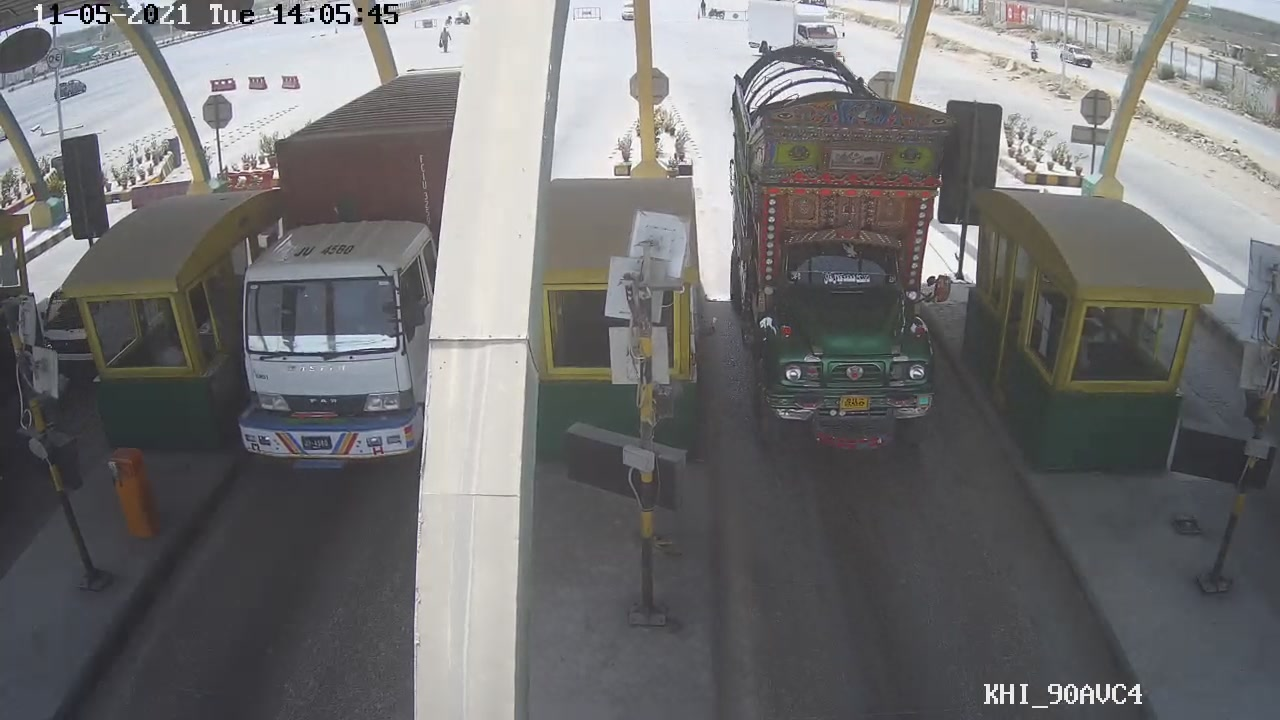F5: (714, 41, 964, 464)
